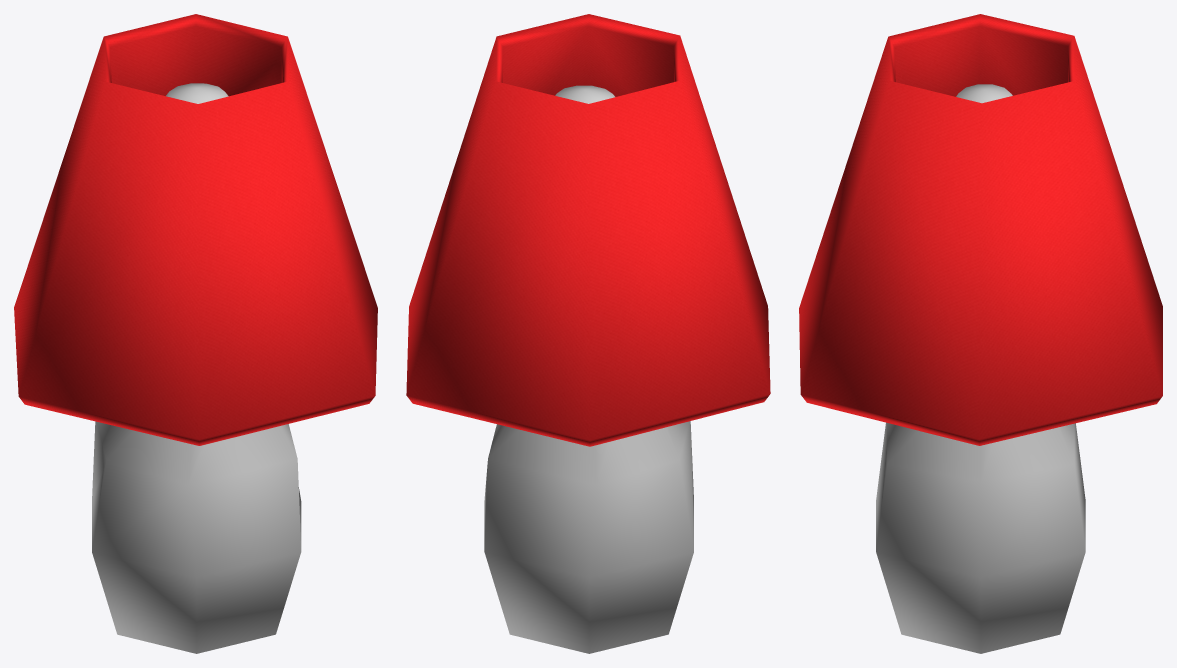
The model's file is Small_Lamp_E.FBX.
3 renders of one model, left to right at view 1: azimuth 30°, elevation 25°; view 2: azimuth 150°, elevation 25°; view 3: azimuth 270°, elevation 25°, orthographic.
Visible parts, largest first — view 1: Kid's Lamp; view 2: Kid's Lamp; view 3: Kid's Lamp.
Part boxes in pixels (x1,y1,x2,y2): Kid's Lamp: [14, 14, 377, 653]; Kid's Lamp: [406, 14, 770, 653]; Kid's Lamp: [799, 14, 1162, 653].
Bounding box in the file's own units: 68.11 × 100 × 59.49.
